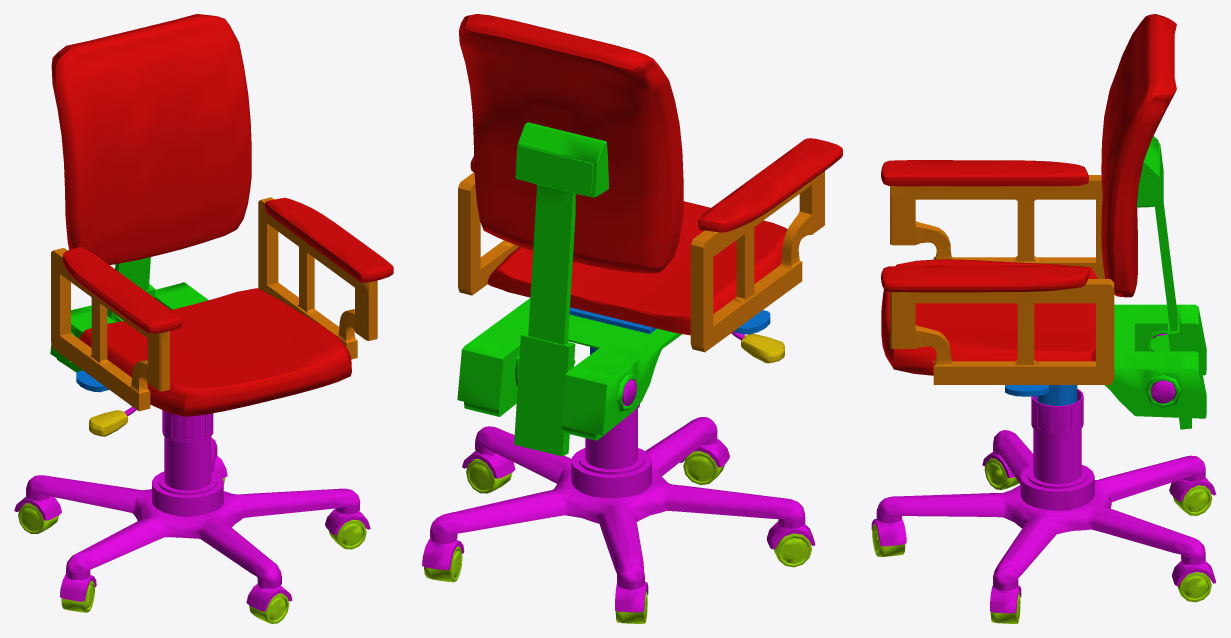
File: officechair.fbx
The picture shows the model from 3 angles, left to right: view 1: azimuth 30°, elevation 25°; view 2: azimuth 150°, elevation 25°; view 3: azimuth 270°, elevation 25°; orthographic projection. The views are drawn at different scales.
Parts seen in each view (by area): view 1: officechair2:Mesh; view 2: officechair2:Mesh; view 3: officechair2:Mesh.
Boxes of the visible parts, x1,y1,x2,y2 form: officechair2:Mesh: [14, 14, 393, 623]; officechair2:Mesh: [422, 14, 842, 623]; officechair2:Mesh: [871, 14, 1216, 623].
Size of the model in its own units: 55.35 by 84.71 by 52.26.
